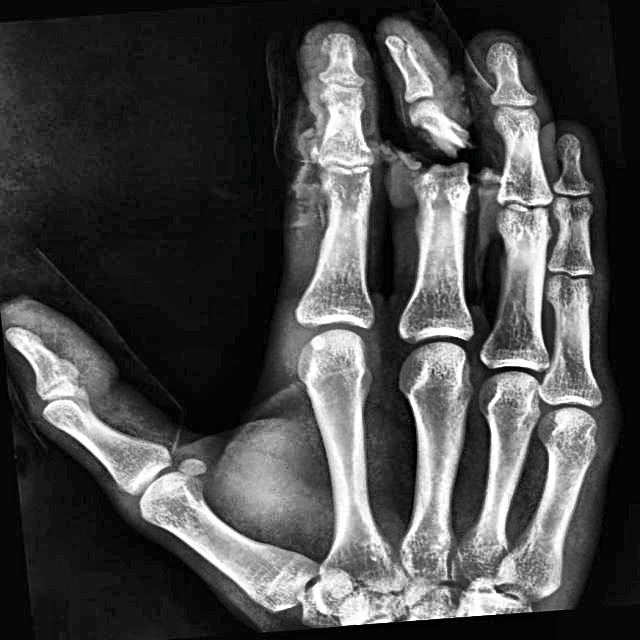Transverse: (405, 96, 475, 190)
